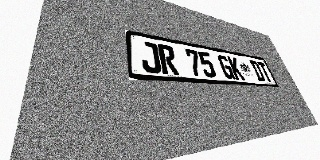5: (197, 51, 217, 78)
7: (184, 48, 205, 77)
D: (249, 60, 266, 82)
G: (217, 54, 236, 79)
J: (139, 40, 162, 74)
K: (227, 56, 245, 80)
R: (157, 44, 179, 75)
T: (257, 61, 273, 82)
